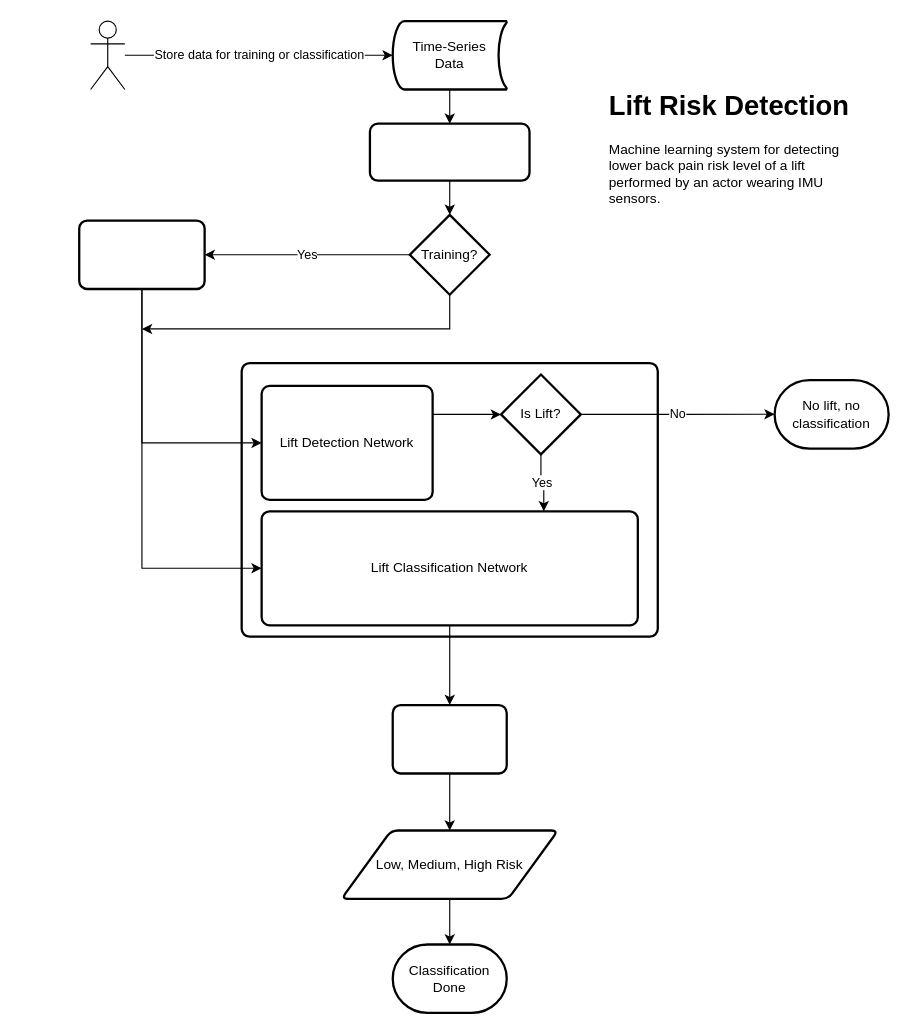
This 910x1033 diagram has some shape labels left out. Each missing label, with the centre of its shape:
Actor with Wearable Sensors: the point at 107,54
Convert output probabilities to classification: the point at 449,738
Data formatting and preprocessing: the point at 449,151
Split into train/test sets: the point at 141,254
